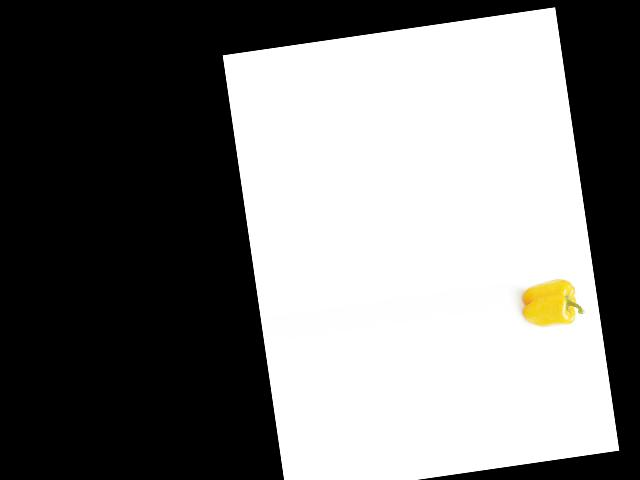bell_pepper: (518, 275, 589, 336)
